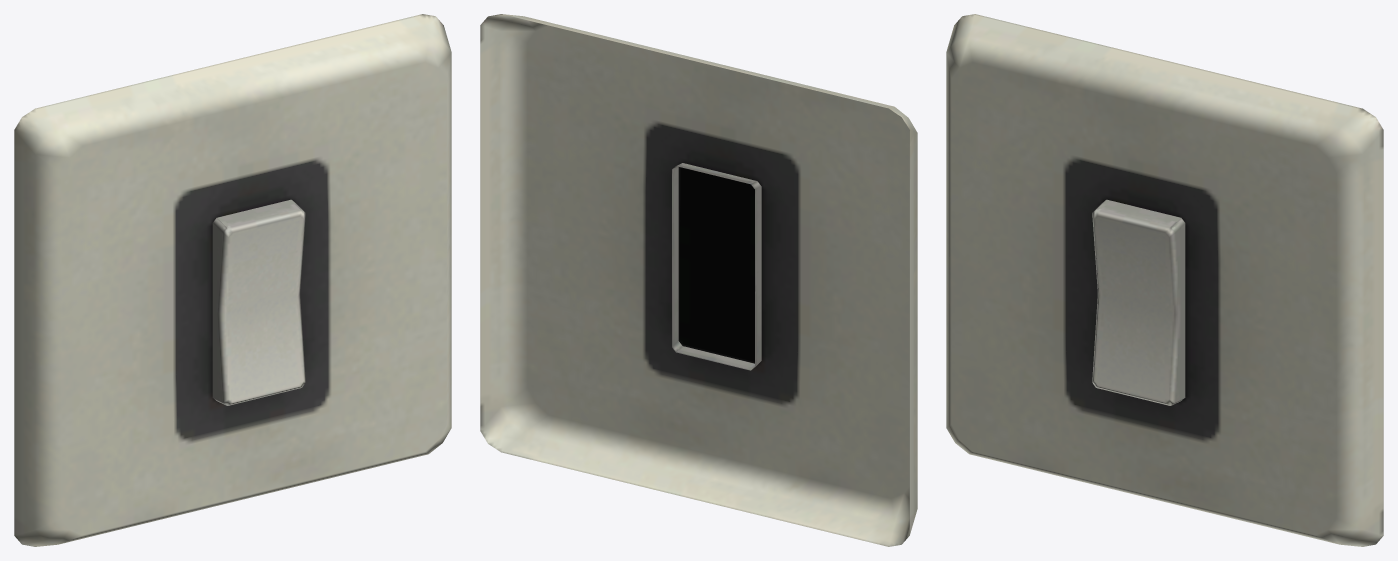
Rendered from light_switch.dae.
3 renders of one model, left to right at view 1: azimuth 30°, elevation 25°; view 2: azimuth 150°, elevation 25°; view 3: azimuth 330°, elevation 25°, orthographic.
Visible parts, largest first — view 1: cover, switch1; view 2: cover, switch1; view 3: cover, switch1.
Part boxes in pixels (x1,y1,x2,y2): cover: [14, 14, 451, 546]; switch1: [212, 199, 305, 405]; cover: [480, 14, 917, 546]; switch1: [672, 163, 761, 370]; cover: [946, 14, 1383, 546]; switch1: [1092, 199, 1185, 405].
Size of the model in its own units: 12.69 by 12.38 by 1.93.
